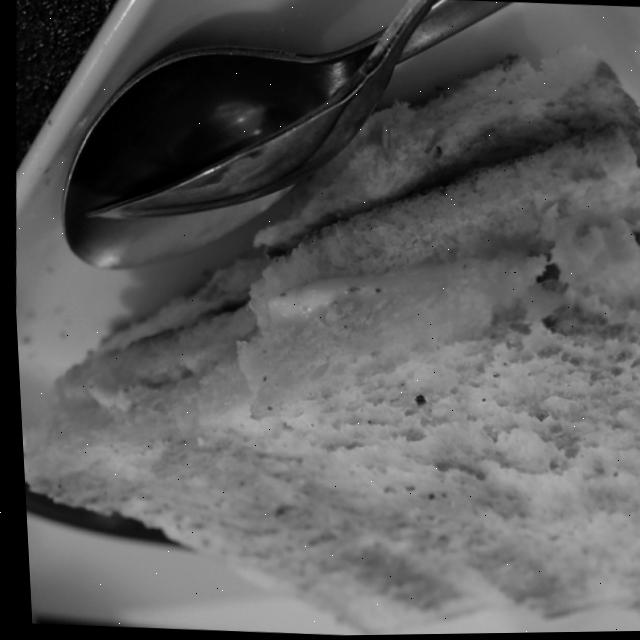面包点心: (0, 5, 640, 639)
